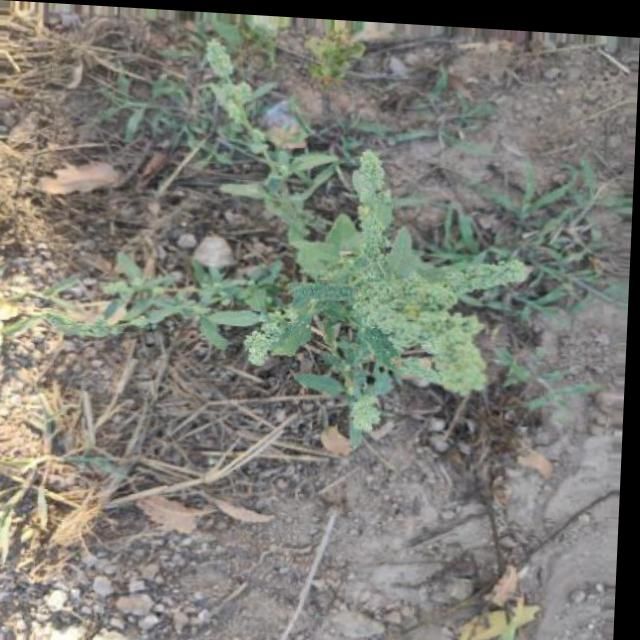weed: (98, 77, 533, 447)
